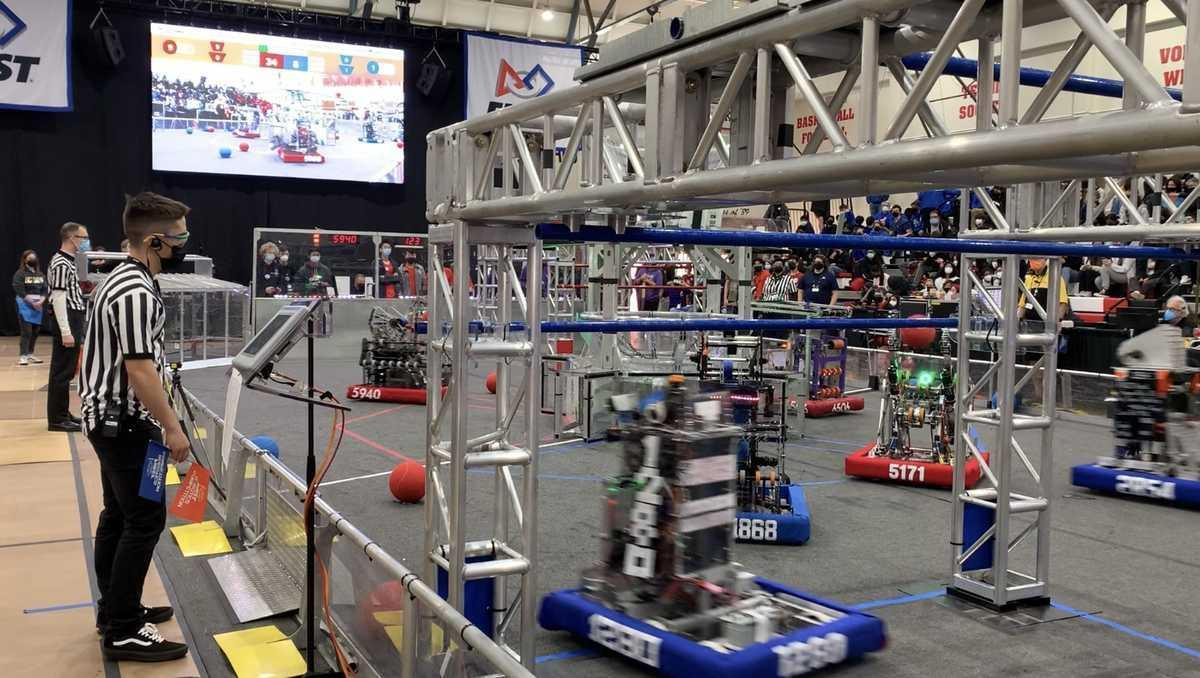robot: (537, 372, 892, 678), (658, 311, 814, 550), (841, 314, 992, 495), (1068, 317, 1200, 511), (753, 297, 866, 419), (347, 299, 455, 406)
